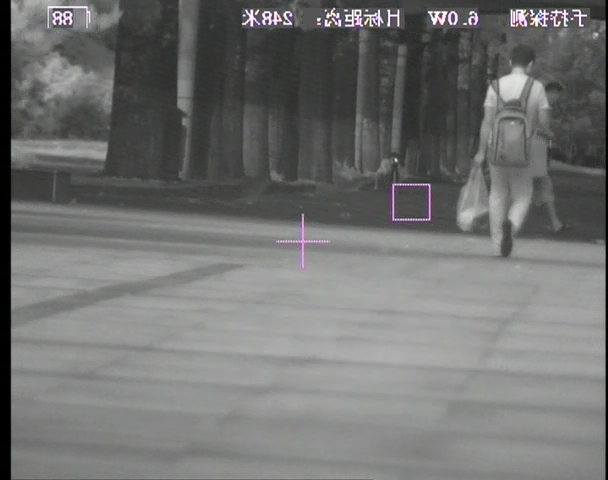my: (393, 156, 400, 163)
